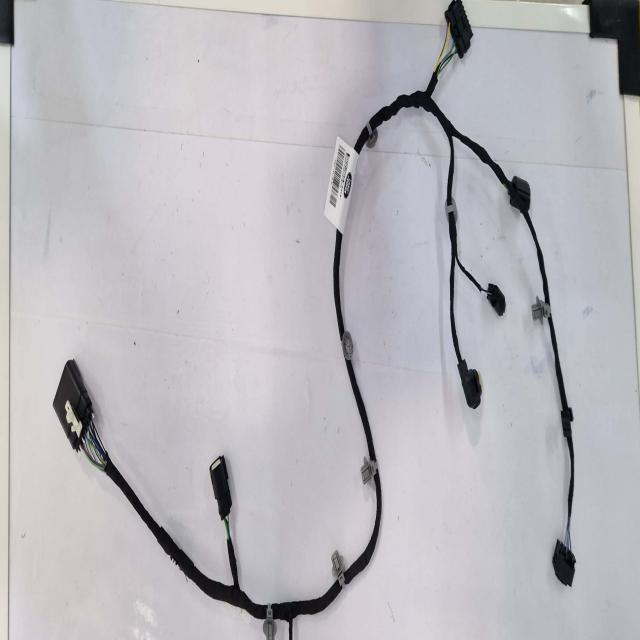Clip: (531, 297, 551, 324), (331, 553, 344, 586), (265, 605, 277, 640), (360, 462, 377, 486), (365, 123, 378, 150), (443, 197, 457, 222), (562, 405, 573, 435), (342, 334, 354, 361)
Connector: (51, 365, 88, 449), (446, 0, 476, 57), (209, 457, 230, 517), (447, 376, 471, 422), (552, 541, 575, 584), (507, 172, 530, 210), (475, 296, 495, 325)
Gape: (75, 414, 105, 476), (432, 31, 460, 82), (563, 516, 576, 554), (224, 512, 234, 542)
Info: (323, 138, 361, 235)
MHEV_N11_Cable: (80, 235, 380, 640), (353, 65, 514, 398), (555, 332, 571, 538), (526, 212, 546, 298)
